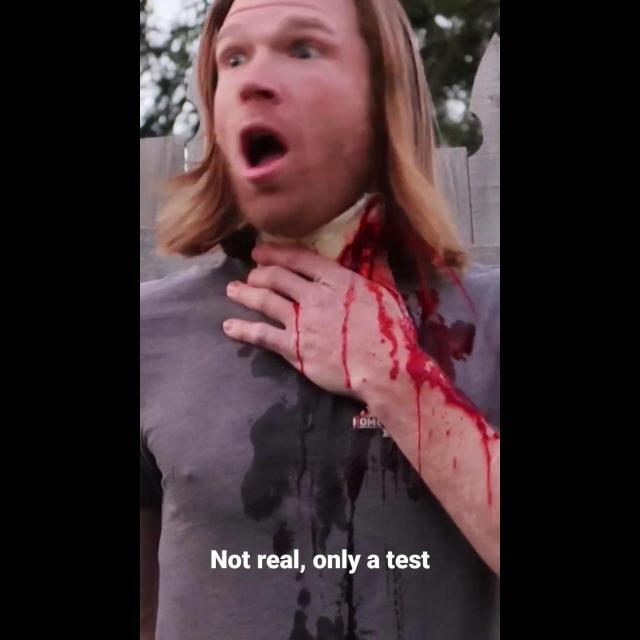blood: (392, 301, 500, 565), (401, 287, 474, 381), (339, 196, 395, 287), (374, 288, 404, 359), (342, 284, 354, 390), (293, 302, 306, 377)
